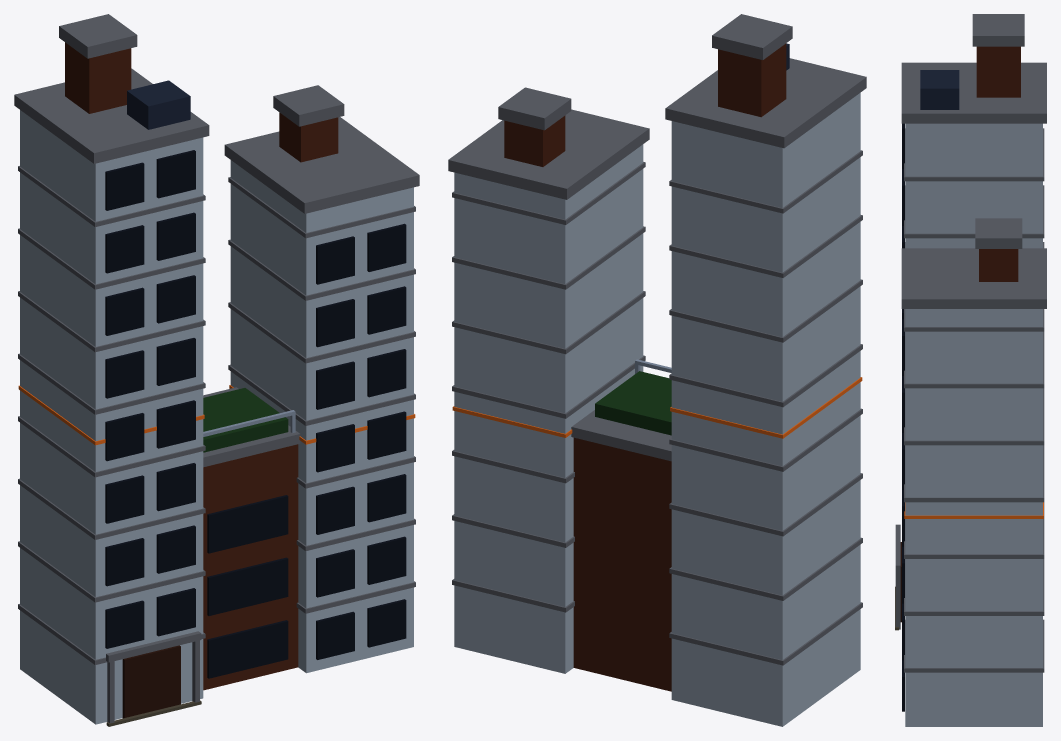
The model's file is tower5.obj.
The picture shows the model from 3 angles, left to right: view 1: azimuth 30°, elevation 25°; view 2: azimuth 150°, elevation 25°; view 3: azimuth 270°, elevation 25°; orthographic projection. The views are drawn at different scales.
Parts seen in each view (by area): view 1: towers, windows, caps, floor-bands, link-block, cores, core-caps, entrance, link-terrace, roof-plant, canopy-brackets, canopy (+2 smaller); view 2: towers, link-block, caps, floor-bands, cores, core-caps, link-terrace, window-lights; view 3: towers, caps, floor-bands, cores, core-caps, roof-plant, windows, window-lights, canopy-brackets, canopy.
Part boxes in pixels (box(x1,y1,x2,y2)): towers: box(20, 110, 413, 724); windows: box(105, 150, 406, 678); caps: box(14, 68, 419, 467); floor-bands: box(18, 166, 415, 664); link-block: box(203, 444, 298, 690); cores: box(65, 42, 338, 162); core-caps: box(59, 14, 344, 126); entrance: box(122, 645, 180, 718); link-terrace: box(203, 388, 288, 452); roof-plant: box(127, 80, 190, 129); canopy-brackets: box(107, 637, 199, 723); canopy: box(106, 631, 201, 662); towers: box(454, 93, 860, 726); link-block: box(573, 437, 671, 691); caps: box(448, 58, 866, 461); floor-bands: box(452, 150, 862, 665); cores: box(504, 43, 786, 166); core-caps: box(498, 14, 792, 130); link-terrace: box(595, 371, 671, 435); window-lights: box(452, 377, 862, 438); towers: box(905, 123, 1042, 726); caps: box(901, 62, 1046, 308); floor-bands: box(904, 128, 1044, 672); cores: box(976, 46, 1020, 281); core-caps: box(972, 14, 1024, 248); roof-plant: box(920, 70, 959, 109); windows: box(902, 123, 904, 711); window-lights: box(904, 502, 1043, 518); canopy-brackets: box(895, 572, 900, 629); canopy: box(895, 524, 900, 571).
Size of the model in its own units: 6.96 by 13.14 by 3.09.
